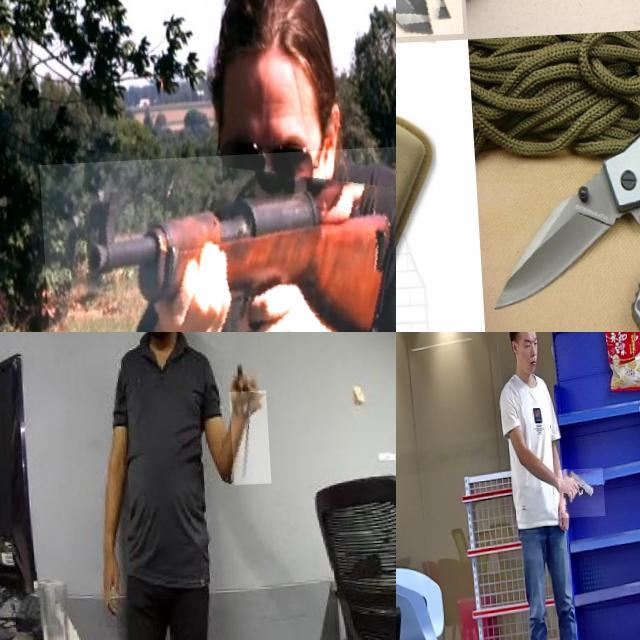-: (476, 165, 622, 317), (396, 0, 511, 120), (396, 200, 452, 332), (226, 393, 267, 488)
gun-knife-thesis - v11 Yolov5 augmented: (36, 151, 396, 332), (554, 473, 602, 522)
